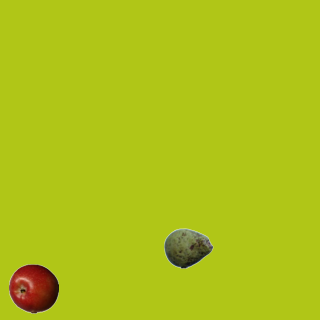Apple Braeburn: (8, 263, 58, 313)
Pear Stone: (163, 223, 213, 273)
